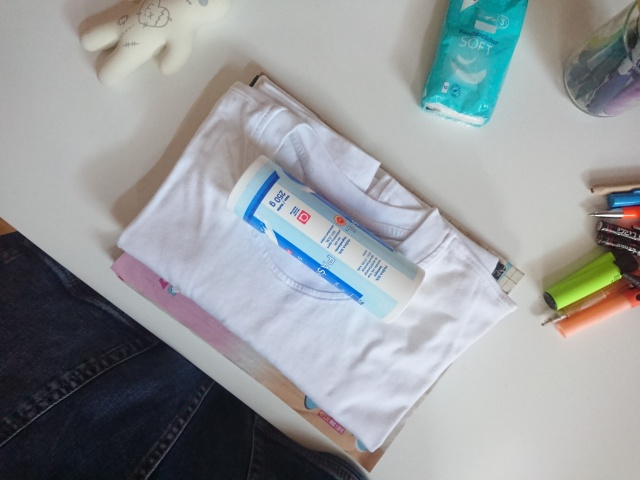Solana Pag Fine Sea Salt 250g: (222, 152, 429, 327)
